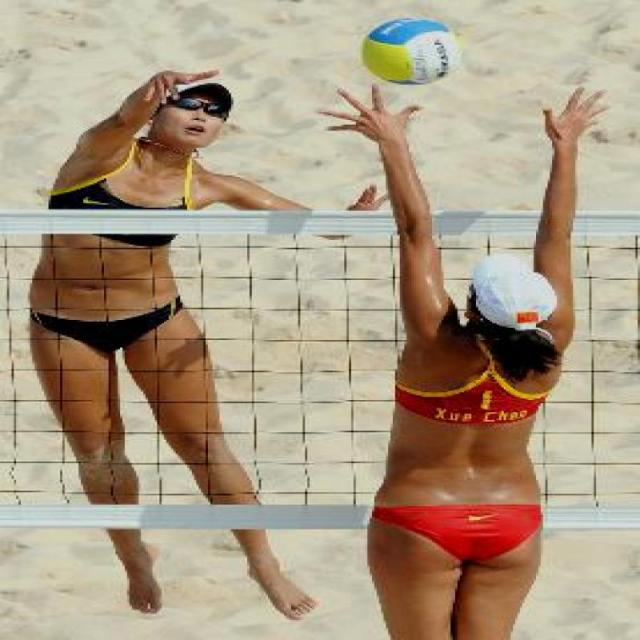volleyball: (358, 14, 460, 84)
